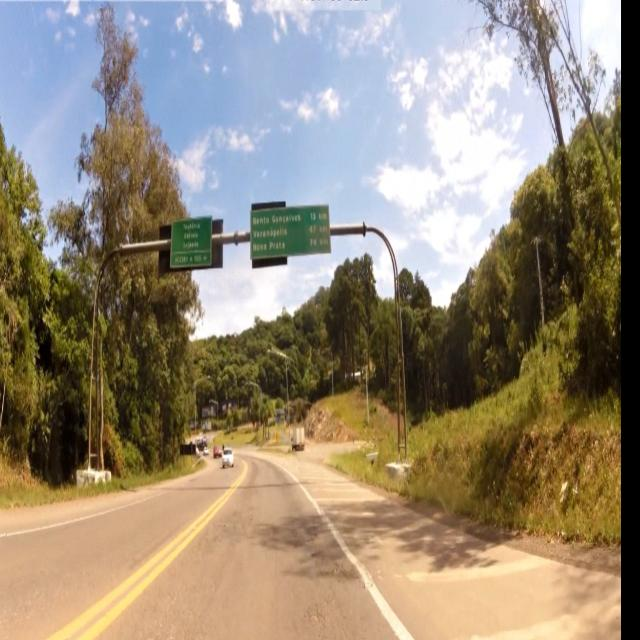I-4: (251, 207, 333, 254), (172, 220, 210, 264)
